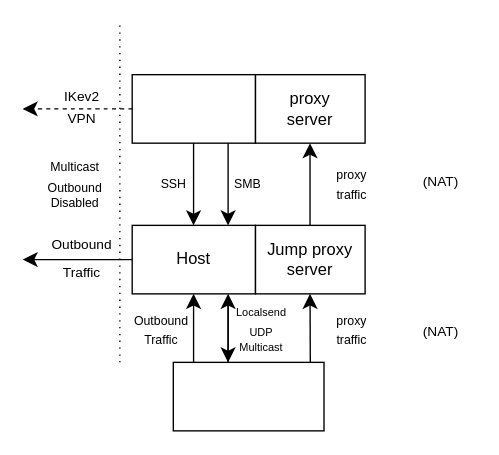
The diagram is 499 pixels wide and 455 high, and some of its shapes have lost their labels. Here are the shapes that lost their labels. From the top down, the centre of each, then its label:
At point (193, 108): "Virtual Machine".
At point (248, 396): "Mobile Device".
